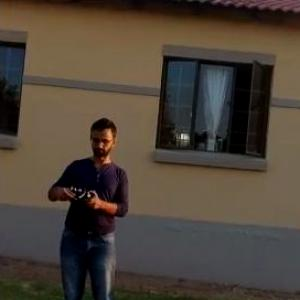follow: (38, 112, 136, 299)
